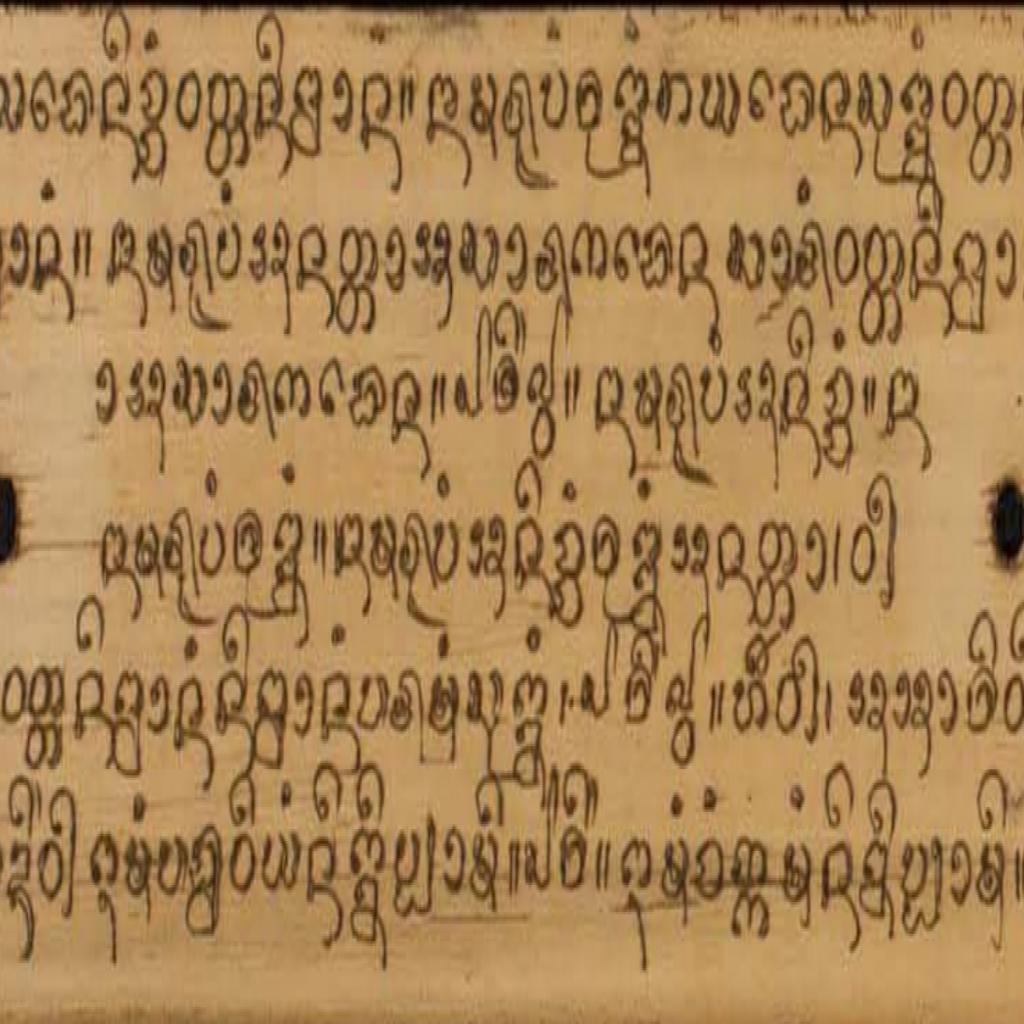LN001: (569, 215, 612, 289)
LN024: (538, 61, 572, 137)
